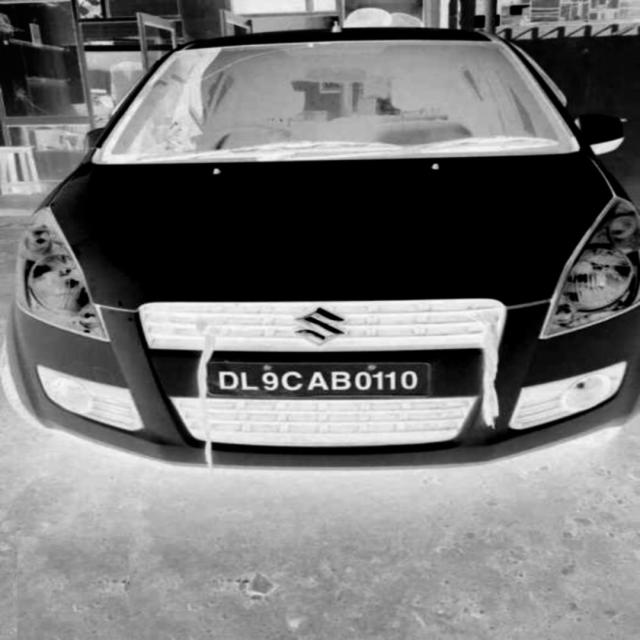Non_registered: (208, 362, 431, 396)
